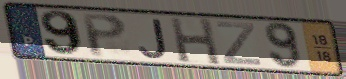9: (40, 9, 87, 59), (263, 20, 305, 72)
H: (167, 15, 223, 67)
J: (137, 18, 170, 60)
P: (79, 12, 130, 59)
Z: (214, 20, 263, 67)
